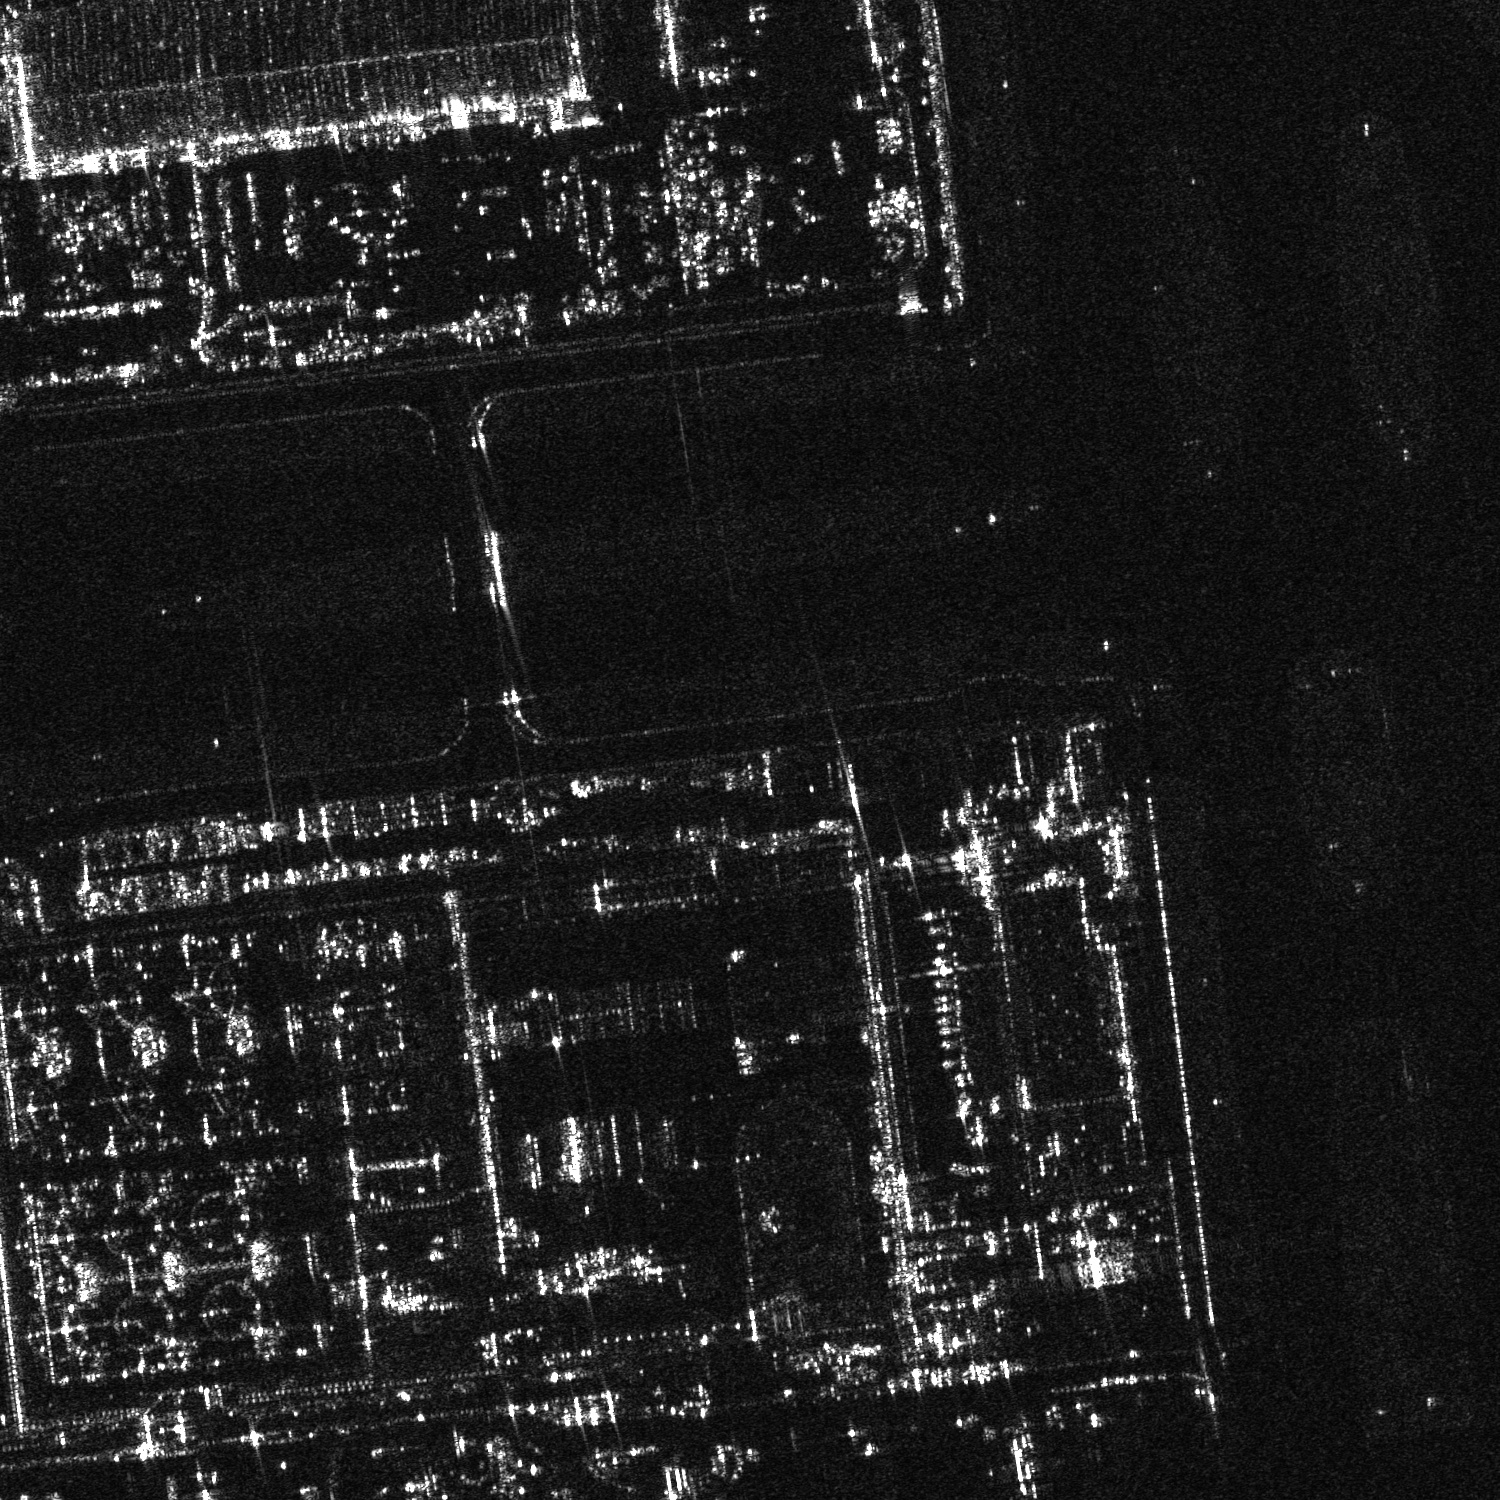Boeing737: (988, 1426, 1065, 1499)
Boeing787: (459, 1433, 536, 1499)
